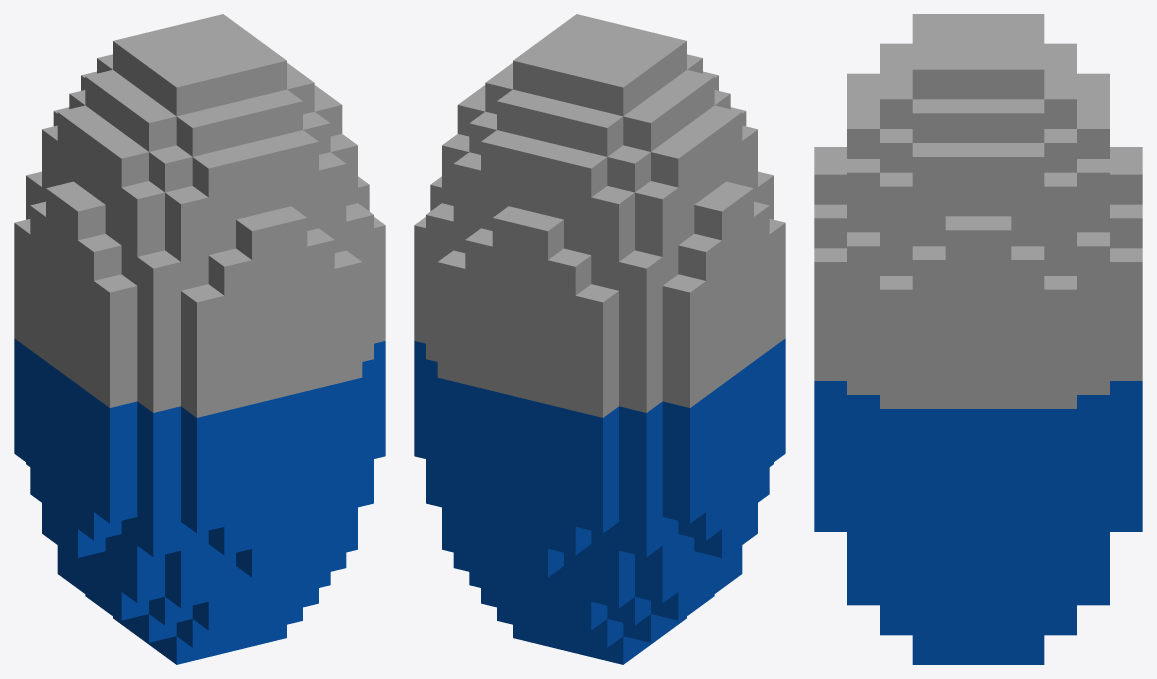
The model's file is capsule_blue.fbx.
3 renders of one model, left to right at view 1: azimuth 30°, elevation 25°; view 2: azimuth 150°, elevation 25°; view 3: azimuth 270°, elevation 25°, orthographic. The views are drawn at different scales.
Visible parts, largest first — view 1: Matrix; view 2: Matrix; view 3: Matrix.
Boxes of the visible parts, x1,y1,x2,y2 form: Matrix: [14, 14, 385, 664]; Matrix: [414, 14, 785, 664]; Matrix: [814, 14, 1142, 664].
Size of the model in its own units: 10 by 20 by 10.
